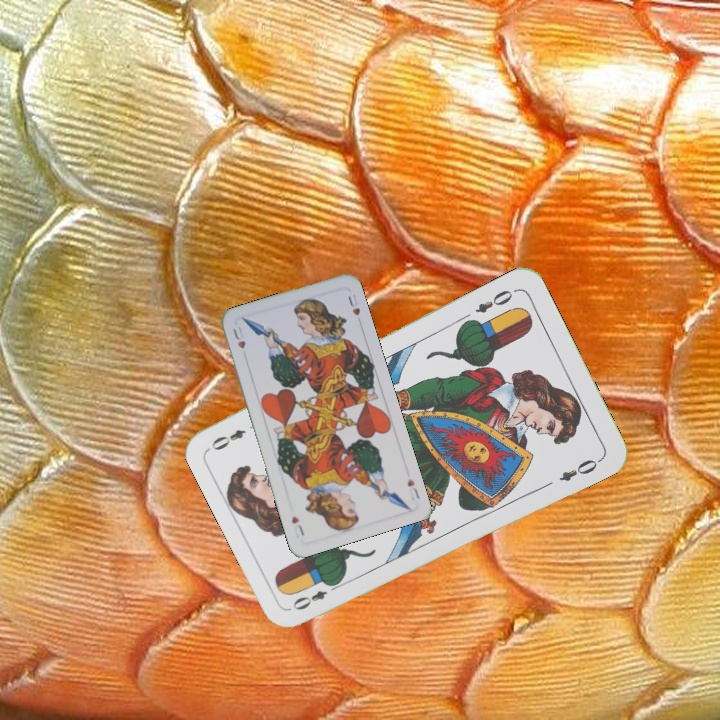EO: (288, 578, 344, 613), (471, 285, 519, 316)
HU: (229, 322, 248, 351), (403, 474, 422, 501)
